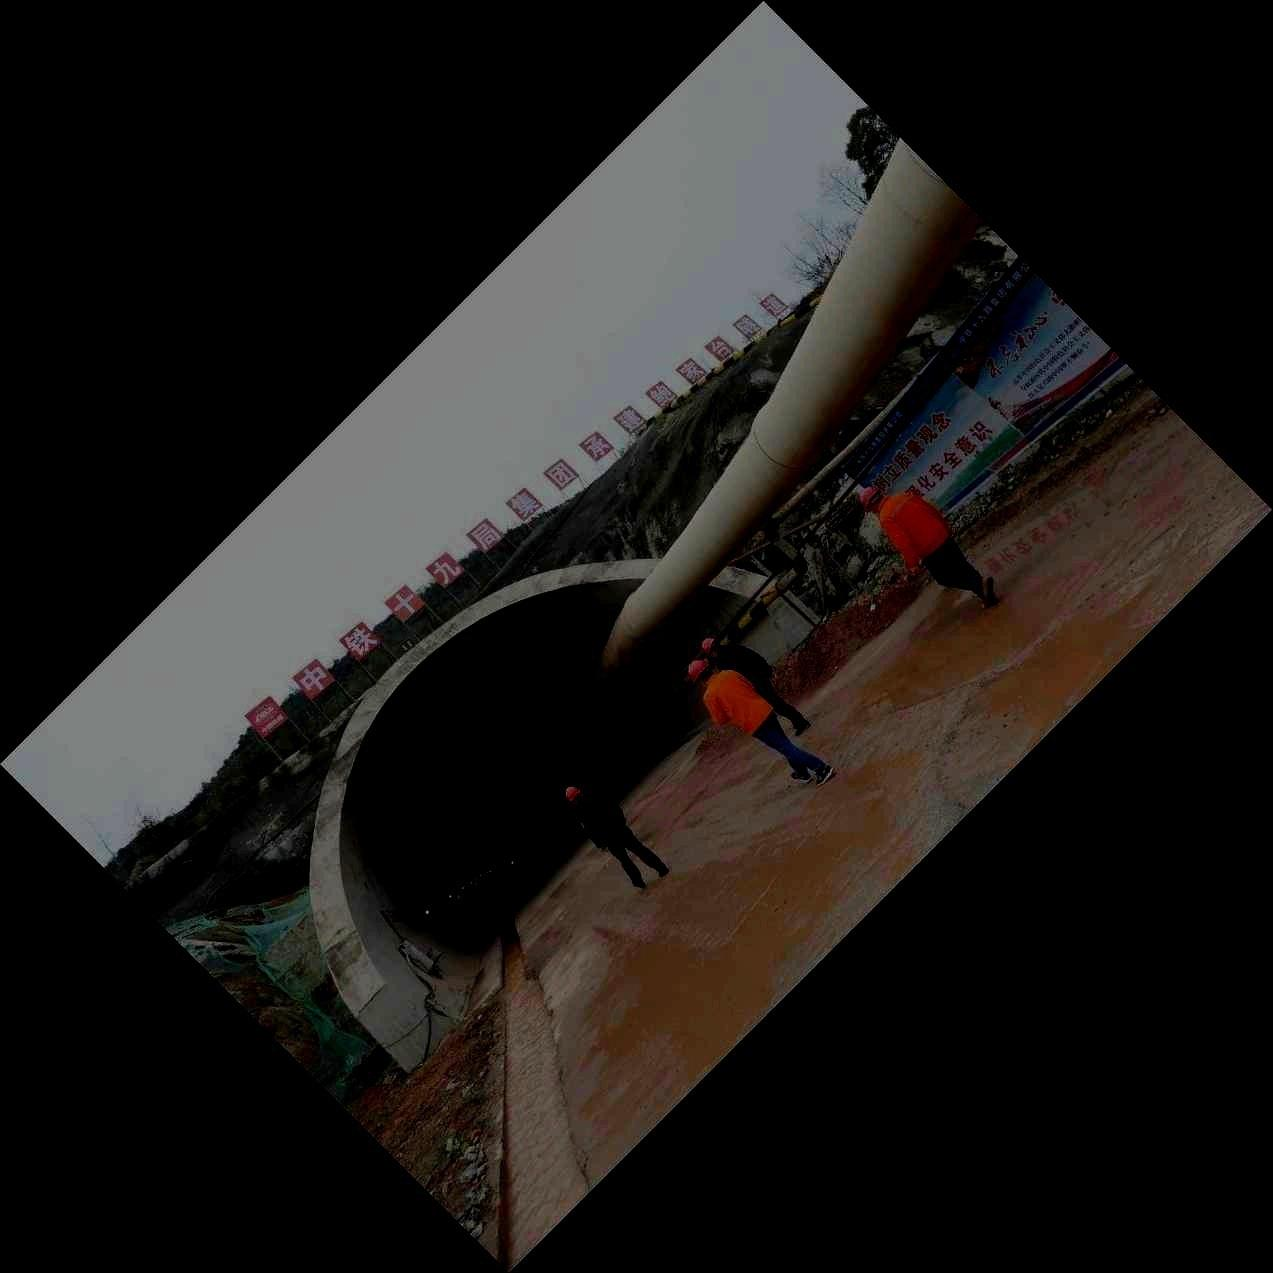helmet: (859, 487, 885, 514), (687, 659, 712, 685), (701, 636, 718, 656), (565, 786, 581, 801)
